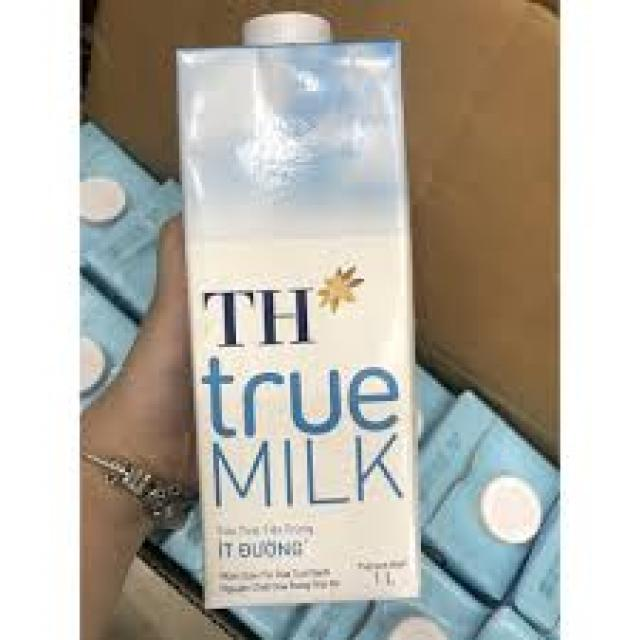non_white_jug: (159, 7, 447, 619)
